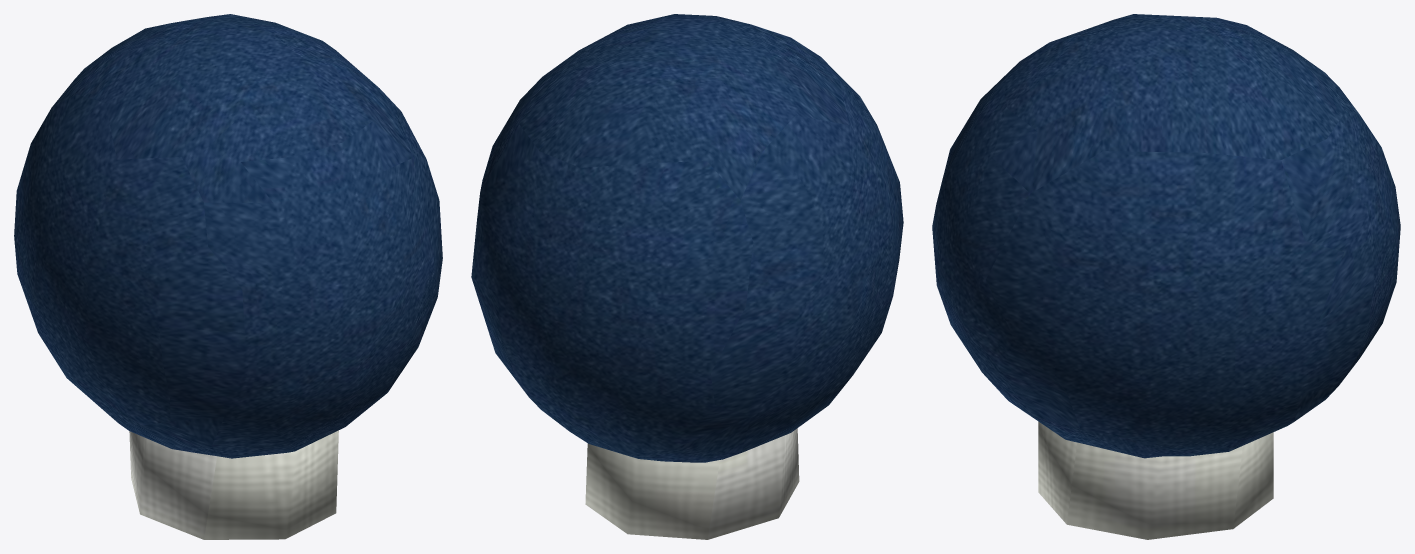
Rendered from blue2.dae.
3 views of the same model, side by side, from view 1: azimuth 30°, elevation 25°; view 2: azimuth 150°, elevation 25°; view 3: azimuth 270°, elevation 25° (orthographic).
Visible parts, largest first — view 1: Sphere; view 2: Sphere; view 3: Sphere.
Boxes of the visible parts, bbox=[...] form: Sphere: bbox=[14, 14, 442, 539]; Sphere: bbox=[471, 14, 903, 539]; Sphere: bbox=[932, 14, 1400, 539].
Size of the model in its own units: 0.2183 by 0.2408 by 0.2629.
1 material, 1 textured.
